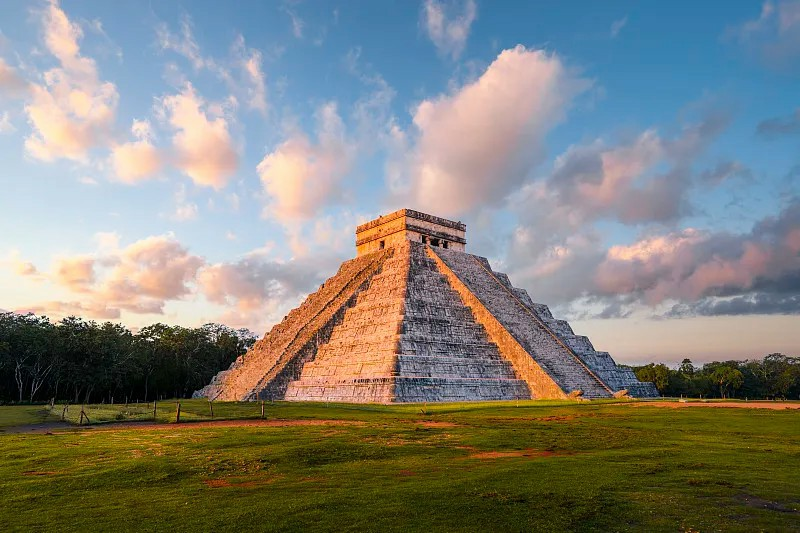Pyramid: (192, 212, 658, 403)
